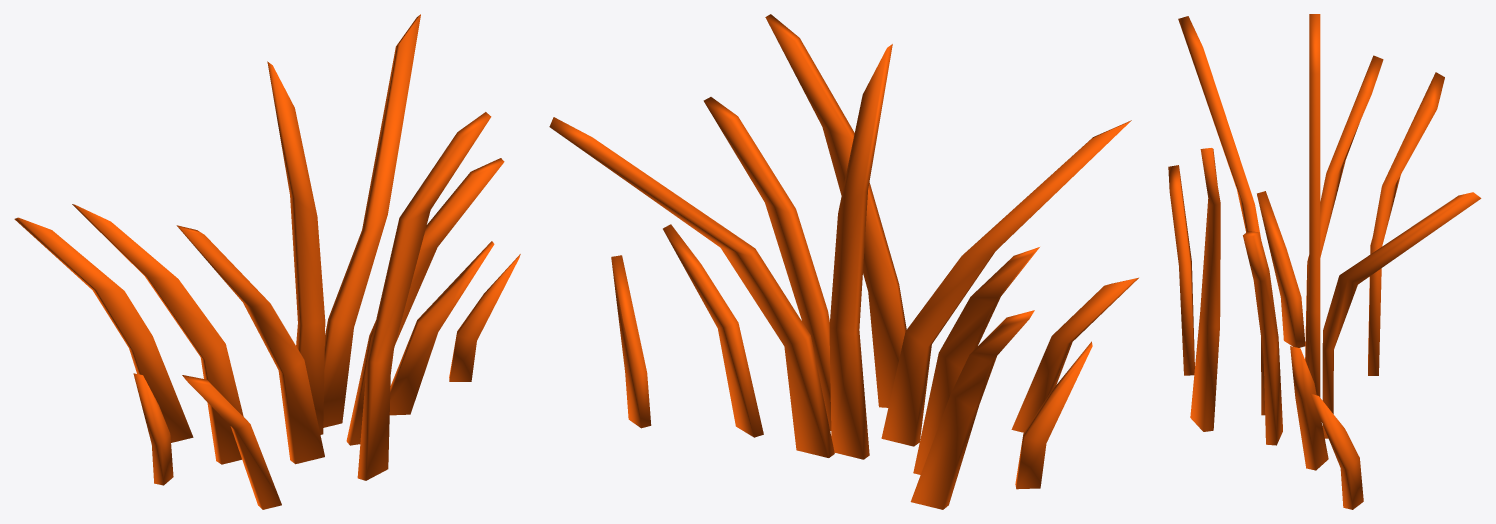
File: Grass002.fbx
3 views of the same model, side by side, from view 1: azimuth 30°, elevation 25°; view 2: azimuth 150°, elevation 25°; view 3: azimuth 270°, elevation 25° (orthographic). The views are drawn at different scales.
Parts seen in each view (by area): view 1: Grass_Small; view 2: Grass_Small; view 3: Grass_Small.
Boxes of the visible parts, x1,y1,x2,y2 form: Grass_Small: (14, 14, 520, 509); Grass_Small: (549, 14, 1138, 509); Grass_Small: (1168, 14, 1481, 509).
Bounding box in the file's own units: 47.66 × 39.41 × 28.65.
1 material, 1 textured.
